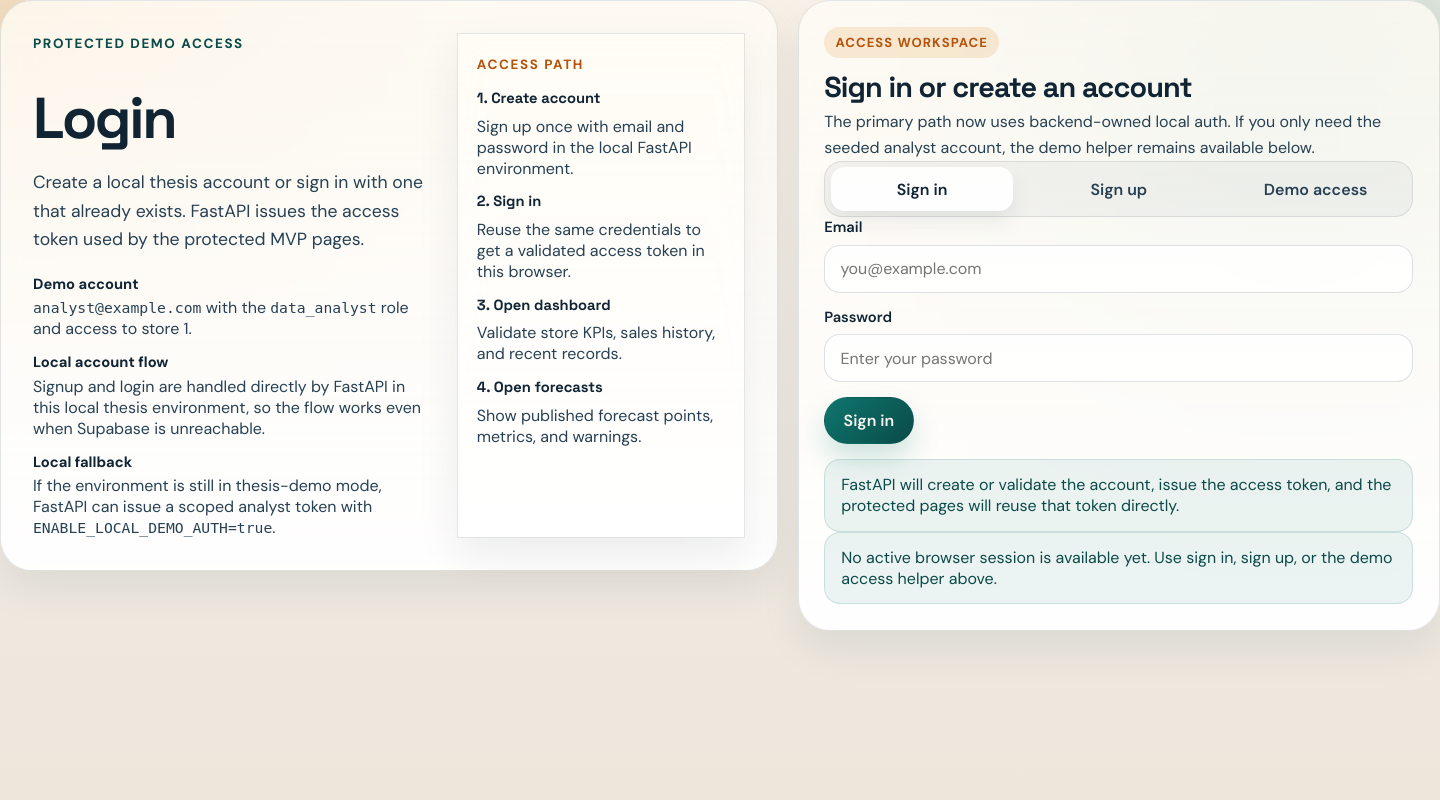
Test case: LoginPage › signs in with a real backend-owned local account flow
Type "user@example.com" into the field labelled "Email". click: (1119, 268)
box: [824,244,1413,292]
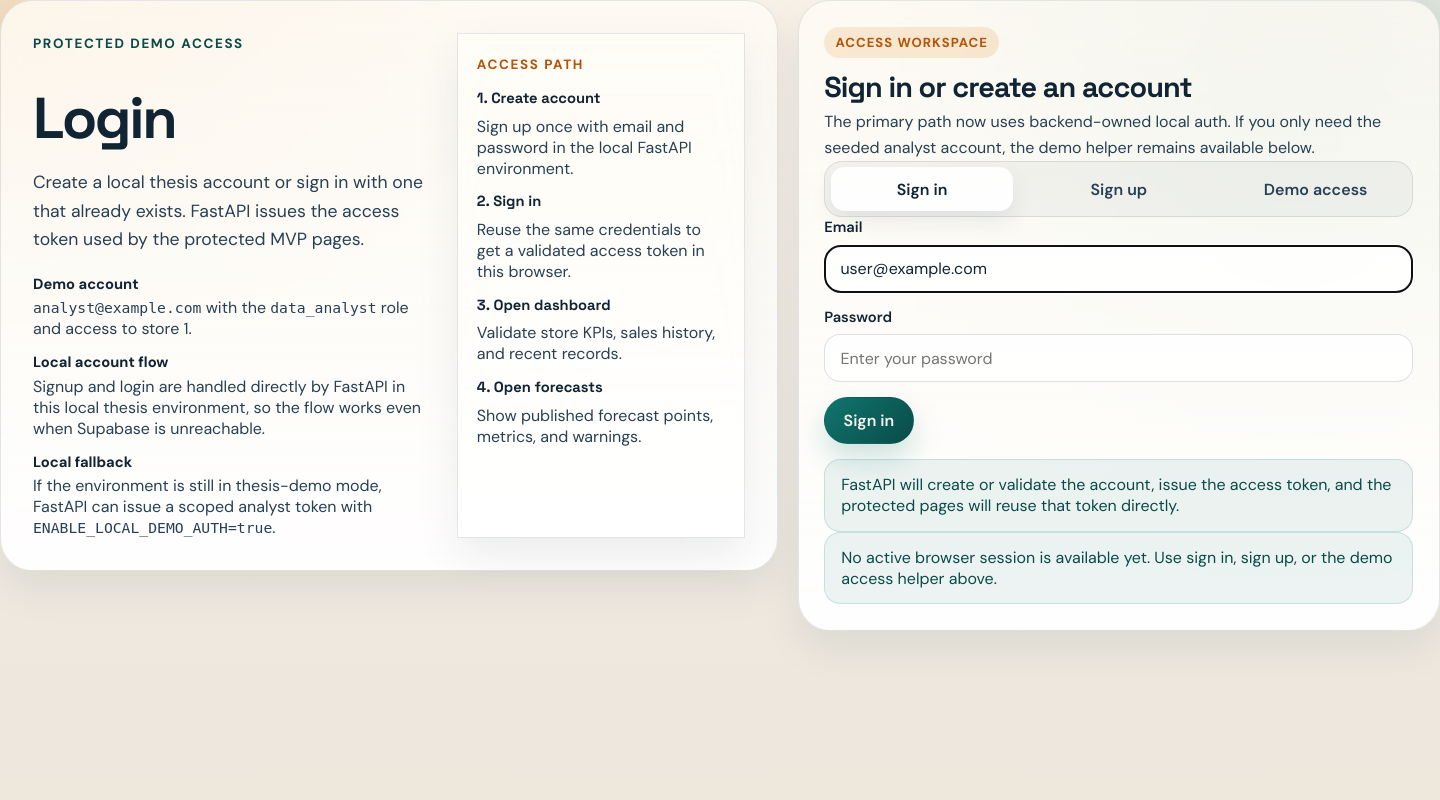
Type "password-123" into the password field labelled "Password". click: (1119, 358)
box: [824,334,1413,382]
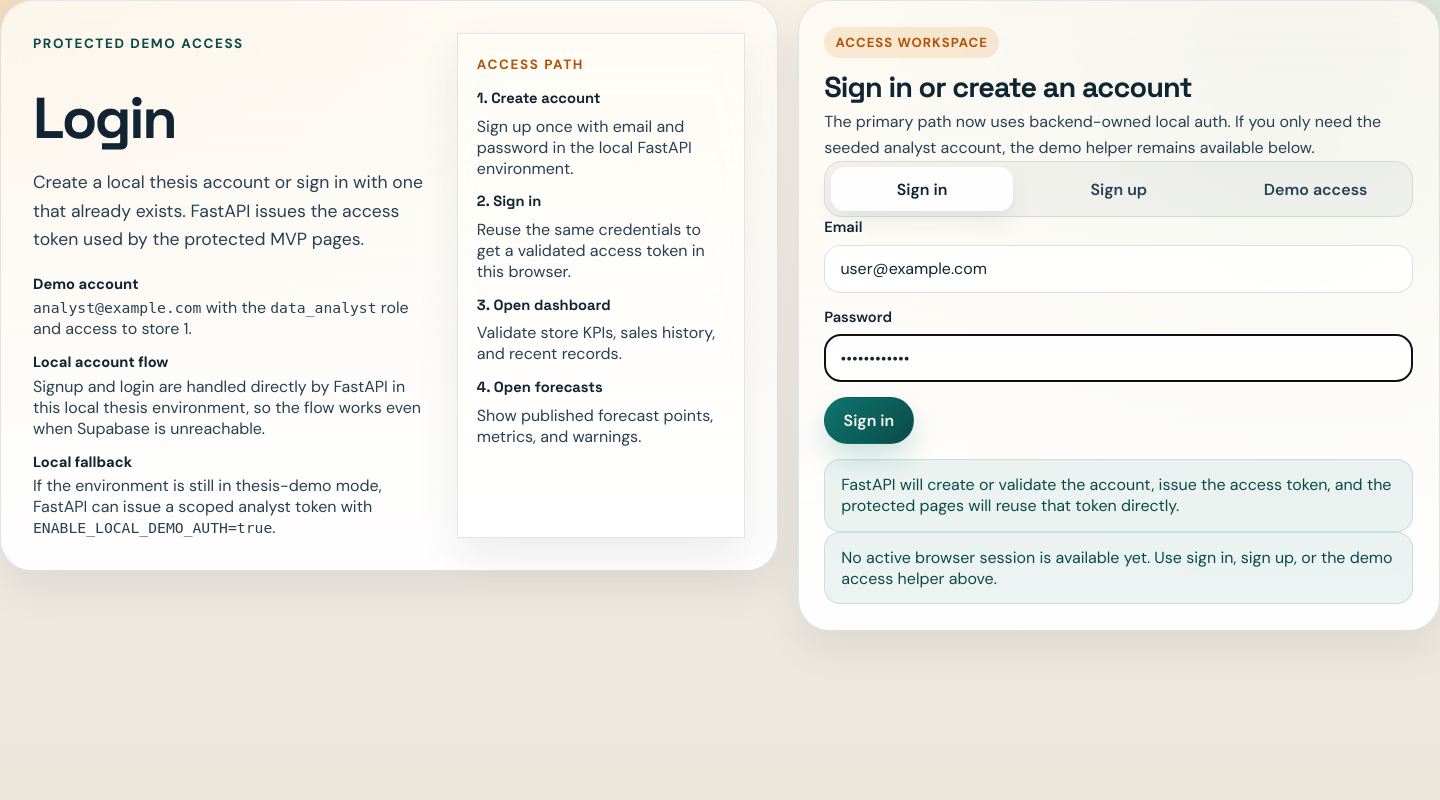
Click the button named "Submit sign in". click: (869, 420)
box: [824,396,914,444]
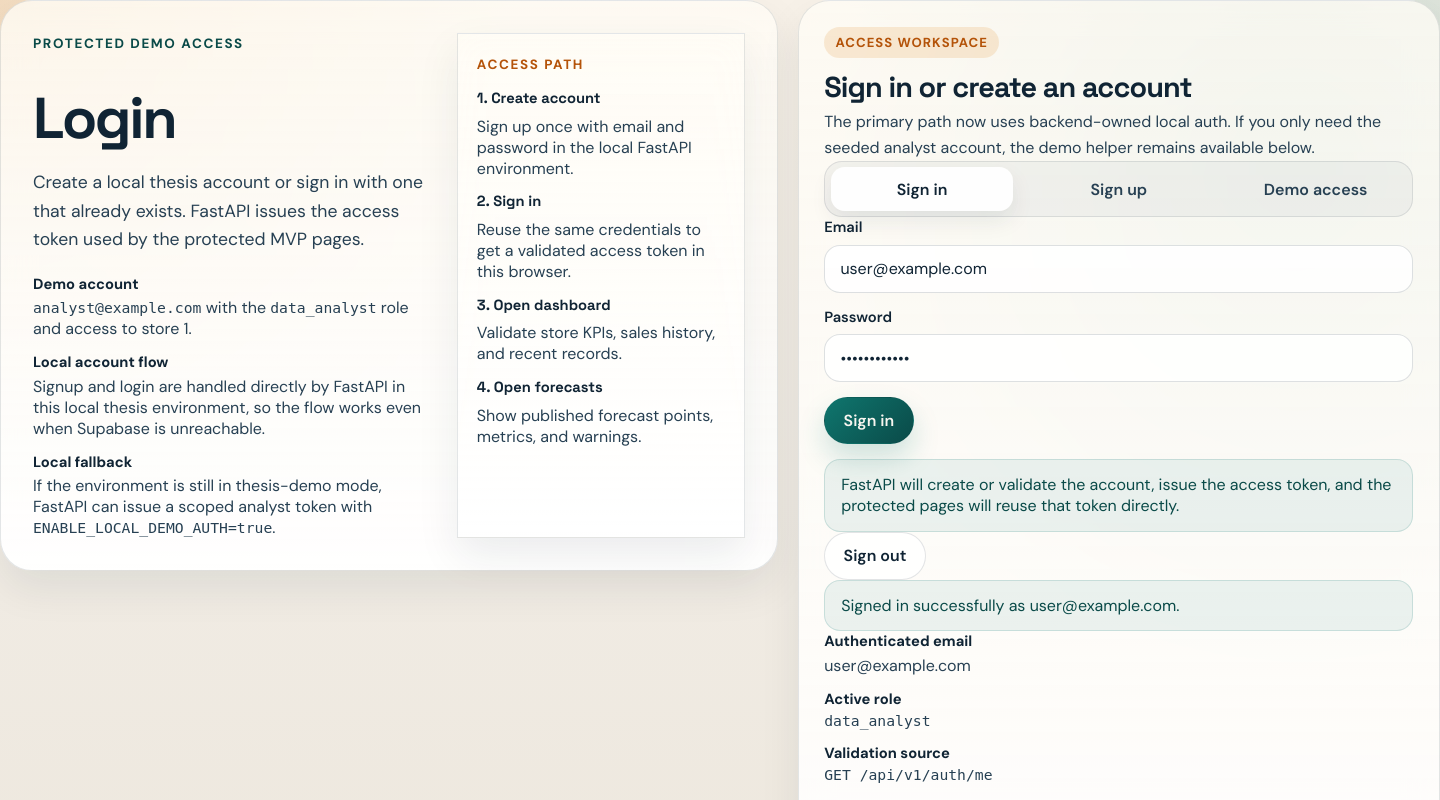
Result: the text "Signed in successfully as user@example.com." is shown at [824,580,1413,631]
